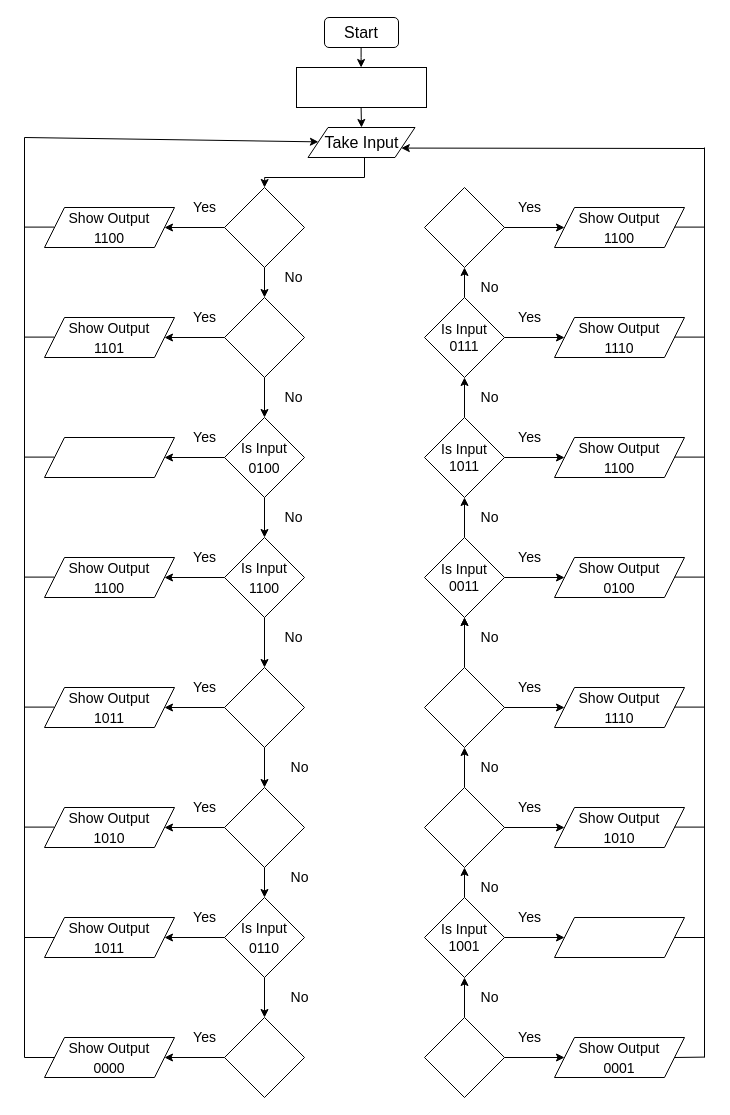
The diagram is 730 pixels wide and 1115 high, and some of its shapes have lost their labels. The shapes that lost their labels are listed below. From the top down, each one's box as (x1, y1, x2, y2) in pixels, then its label:
(296, 66, 426, 108): Port Initialization
(224, 186, 304, 268): Is Input 0000
(424, 186, 504, 268): Is Input 1111
(224, 296, 304, 378): Is Input 1000
(44, 436, 174, 478): Show Output 0110
(224, 666, 304, 748): Is Input 0010
(424, 666, 504, 748): Is Input 1101
(224, 786, 304, 868): Is Input 1010
(424, 786, 504, 868): Is Input 0101
(554, 916, 684, 958): Show Output 0011
(224, 1016, 304, 1098): Is Input 1110
(424, 1016, 504, 1098): Is Input 0001
